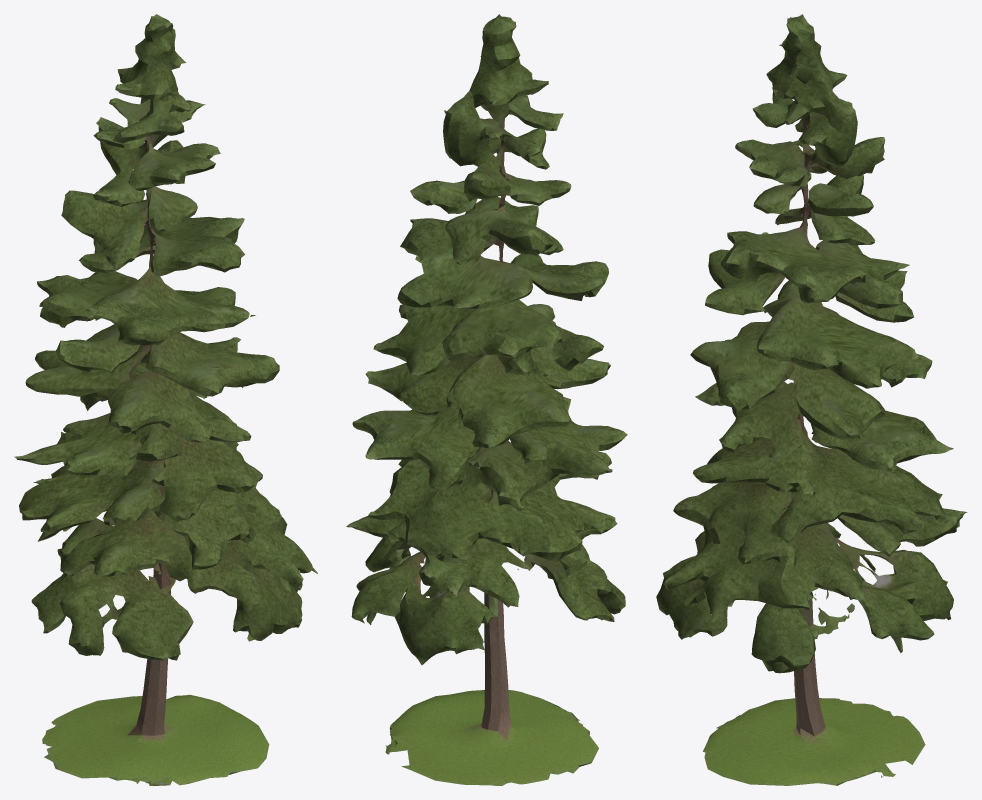
The model's file is Meshy_AI_Solitary_Evergreen_1003194039_texture.glb.
The picture shows the model from 3 angles, left to right: view 1: azimuth 30°, elevation 25°; view 2: azimuth 150°, elevation 25°; view 3: azimuth 270°, elevation 25°; orthographic projection.
Parts seen in each view (by area): view 1: Mesh_0; view 2: Mesh_0; view 3: Mesh_0.
Boxes of the visible parts, left/top/right/bottom form: Mesh_0: left=14, top=14, right=317, bottom=785; Mesh_0: left=346, top=14, right=627, bottom=785; Mesh_0: left=656, top=14, right=967, bottom=785.
Size of the model in its own units: 0.7067 by 1.86 by 0.72.
Materials: 1 (1 with a texture image).
